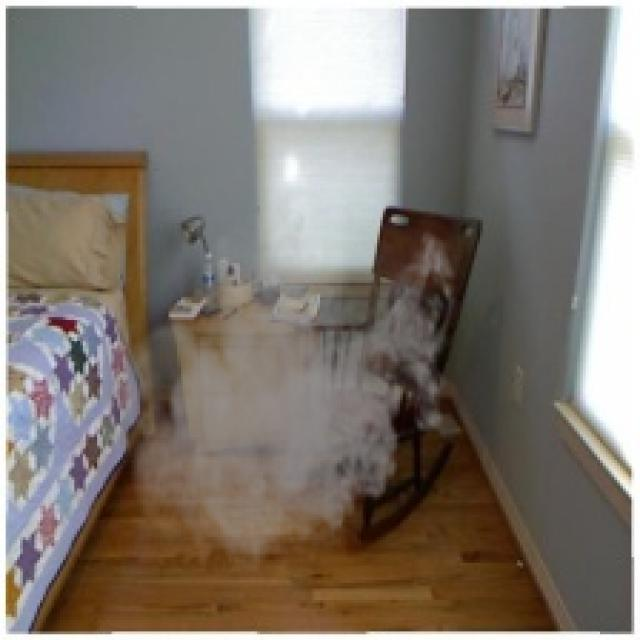Smoke: (97, 163, 466, 586)
